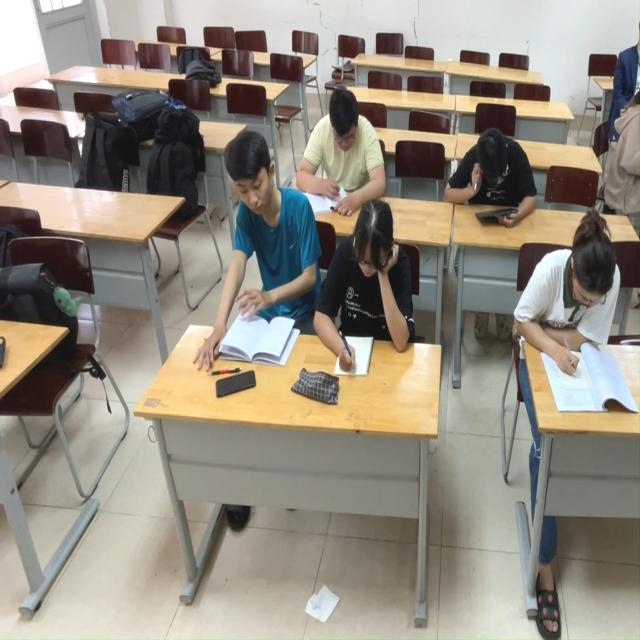read: (513, 209, 637, 434), (313, 211, 422, 392), (298, 93, 397, 218), (449, 116, 538, 234)
